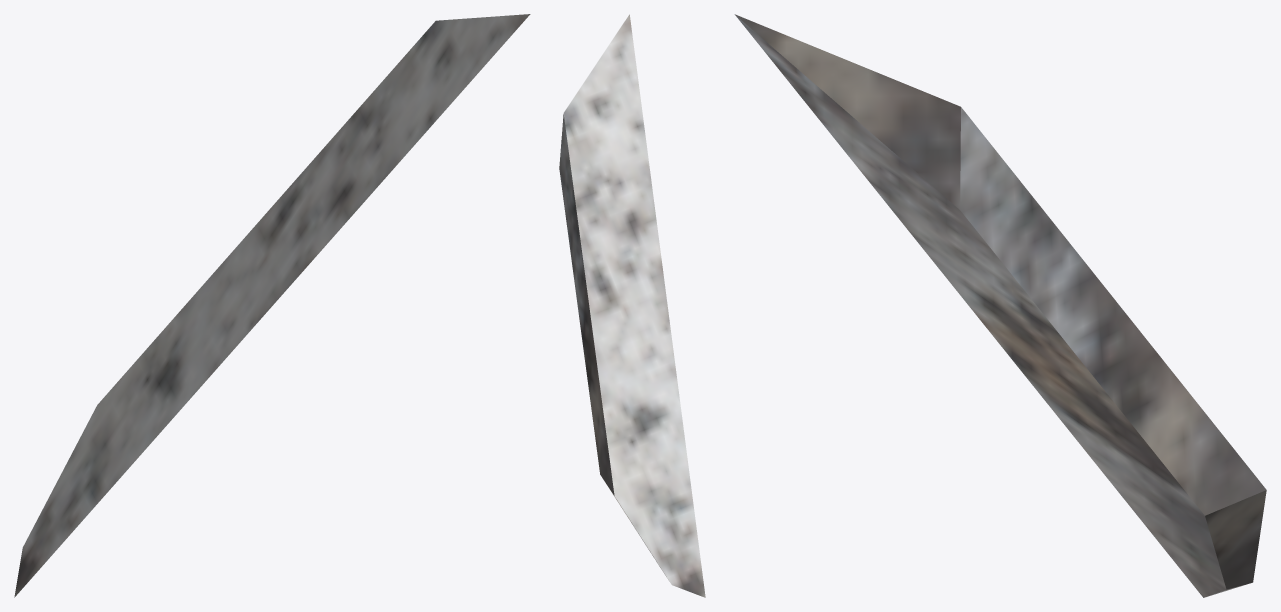
The model's file is Asteroid_Large_001_02_001_03_006.fbx.
3 views of the same model, side by side, from view 1: azimuth 30°, elevation 25°; view 2: azimuth 150°, elevation 25°; view 3: azimuth 270°, elevation 25° (orthographic). The views are drawn at different scales.
Parts seen in each view (by area): view 1: Asteroid_Large_001_02_001_03_006; view 2: Asteroid_Large_001_02_001_03_006; view 3: Asteroid_Large_001_02_001_03_006.
Boxes of the visible parts, x1,y1,x2,y2 form: Asteroid_Large_001_02_001_03_006: (14, 14, 530, 597); Asteroid_Large_001_02_001_03_006: (559, 14, 705, 597); Asteroid_Large_001_02_001_03_006: (734, 14, 1266, 597).
Size of the model in its own units: 1.83 by 3.53 by 2.23.
